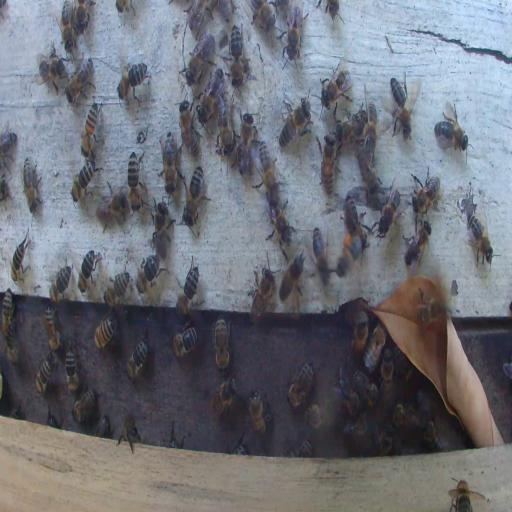nonpollenbee: (387, 72, 420, 138), (433, 100, 469, 154), (278, 94, 312, 151), (319, 60, 353, 112), (97, 184, 129, 232), (282, 6, 306, 68), (249, 264, 274, 322), (183, 166, 207, 226), (410, 168, 440, 216), (150, 197, 174, 257), (175, 260, 199, 320), (466, 213, 493, 266), (116, 60, 150, 102), (335, 367, 363, 417), (286, 360, 315, 408), (65, 58, 95, 104), (357, 137, 380, 196), (80, 98, 102, 158), (70, 158, 98, 204), (377, 182, 401, 235), (404, 220, 431, 266), (279, 254, 305, 301), (185, 35, 214, 77), (22, 158, 44, 213), (254, 142, 277, 194), (179, 102, 200, 157), (267, 198, 291, 246), (210, 376, 237, 417), (37, 54, 66, 92), (320, 132, 337, 196), (248, 388, 270, 436), (364, 322, 386, 370), (116, 413, 142, 453), (49, 261, 72, 306), (78, 248, 100, 295), (104, 273, 133, 307), (304, 400, 339, 428), (126, 336, 148, 380), (135, 254, 161, 291), (213, 318, 231, 371), (422, 416, 448, 452), (72, 387, 98, 423), (11, 232, 29, 284), (127, 149, 142, 211), (228, 22, 243, 84), (312, 226, 330, 277), (352, 373, 379, 407), (93, 315, 118, 351), (171, 327, 198, 359), (43, 305, 61, 352), (251, 2, 276, 33), (36, 353, 54, 396), (218, 107, 234, 154), (2, 288, 16, 338), (350, 318, 368, 356), (1, 122, 17, 164), (65, 343, 78, 394), (334, 120, 358, 146), (373, 426, 394, 455), (60, 2, 73, 48), (199, 92, 220, 120), (239, 113, 256, 147), (380, 346, 394, 386), (453, 484, 472, 512), (73, 2, 89, 34), (159, 423, 180, 447), (323, 2, 344, 26), (5, 332, 19, 366), (93, 414, 111, 438), (417, 302, 434, 325), (392, 401, 406, 428), (296, 440, 312, 457)
pollenbee: (335, 233, 364, 277)
